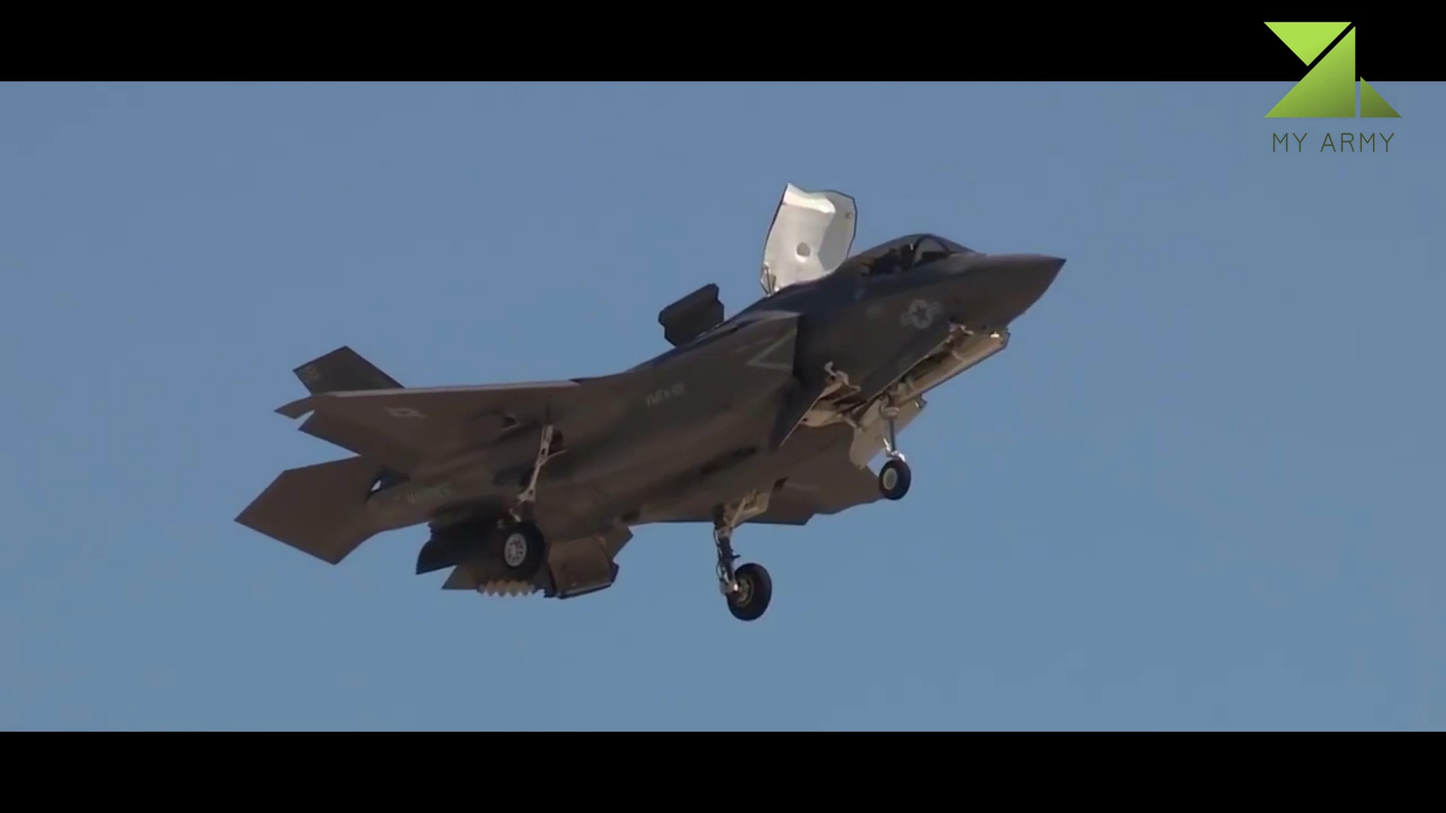F35: (234, 185, 1068, 623)
